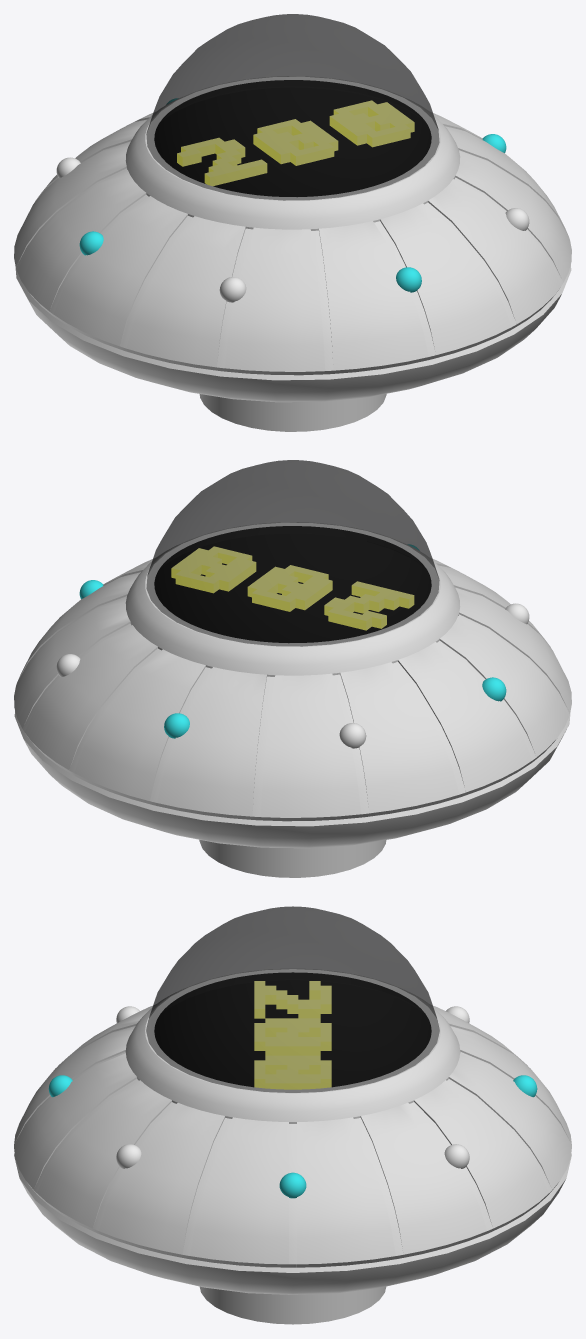
The model's file is 200 bumper.fbx.
The picture shows the model from 3 angles, top to bottom: view 1: azimuth 30°, elevation 25°; view 2: azimuth 150°, elevation 25°; view 3: azimuth 270°, elevation 25°; orthographic projection.
Parts seen in each view (by area): view 1: Sphere.015, Sphere.026, Circle.001, Text; view 2: Sphere.015, Sphere.026, Circle.001, Text; view 3: Sphere.015, Sphere.026, Circle.001, Text.
Boxes of the visible parts, box(x1,y1,x2,y2) form: Sphere.015: box(14, 76, 571, 431); Sphere.026: box(146, 14, 439, 200); Circle.001: box(154, 80, 431, 196); Text: box(177, 100, 414, 185); Sphere.015: box(14, 522, 571, 877); Sphere.026: box(146, 460, 439, 646); Circle.001: box(154, 526, 431, 642); Text: box(171, 546, 414, 630); Sphere.015: box(14, 969, 571, 1324); Sphere.026: box(146, 906, 439, 1092); Circle.001: box(154, 972, 431, 1087); Text: box(254, 981, 331, 1089).
Size of the model in its own units: 271 by 195 by 271.
